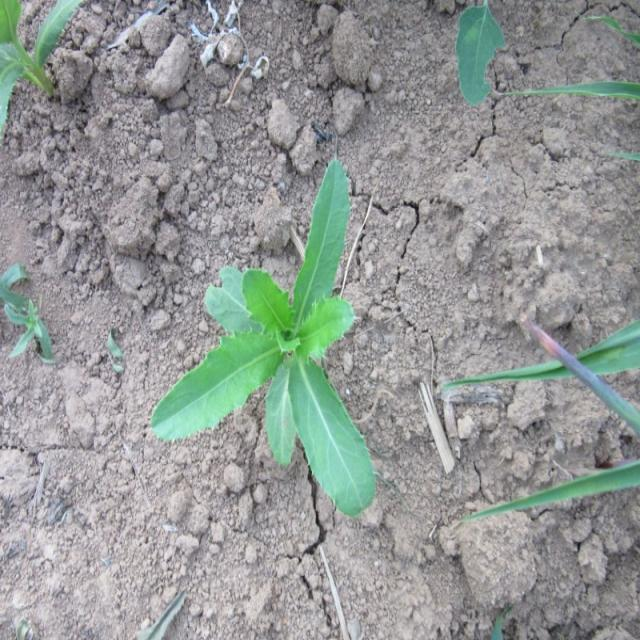cs: (147, 158, 378, 516)
